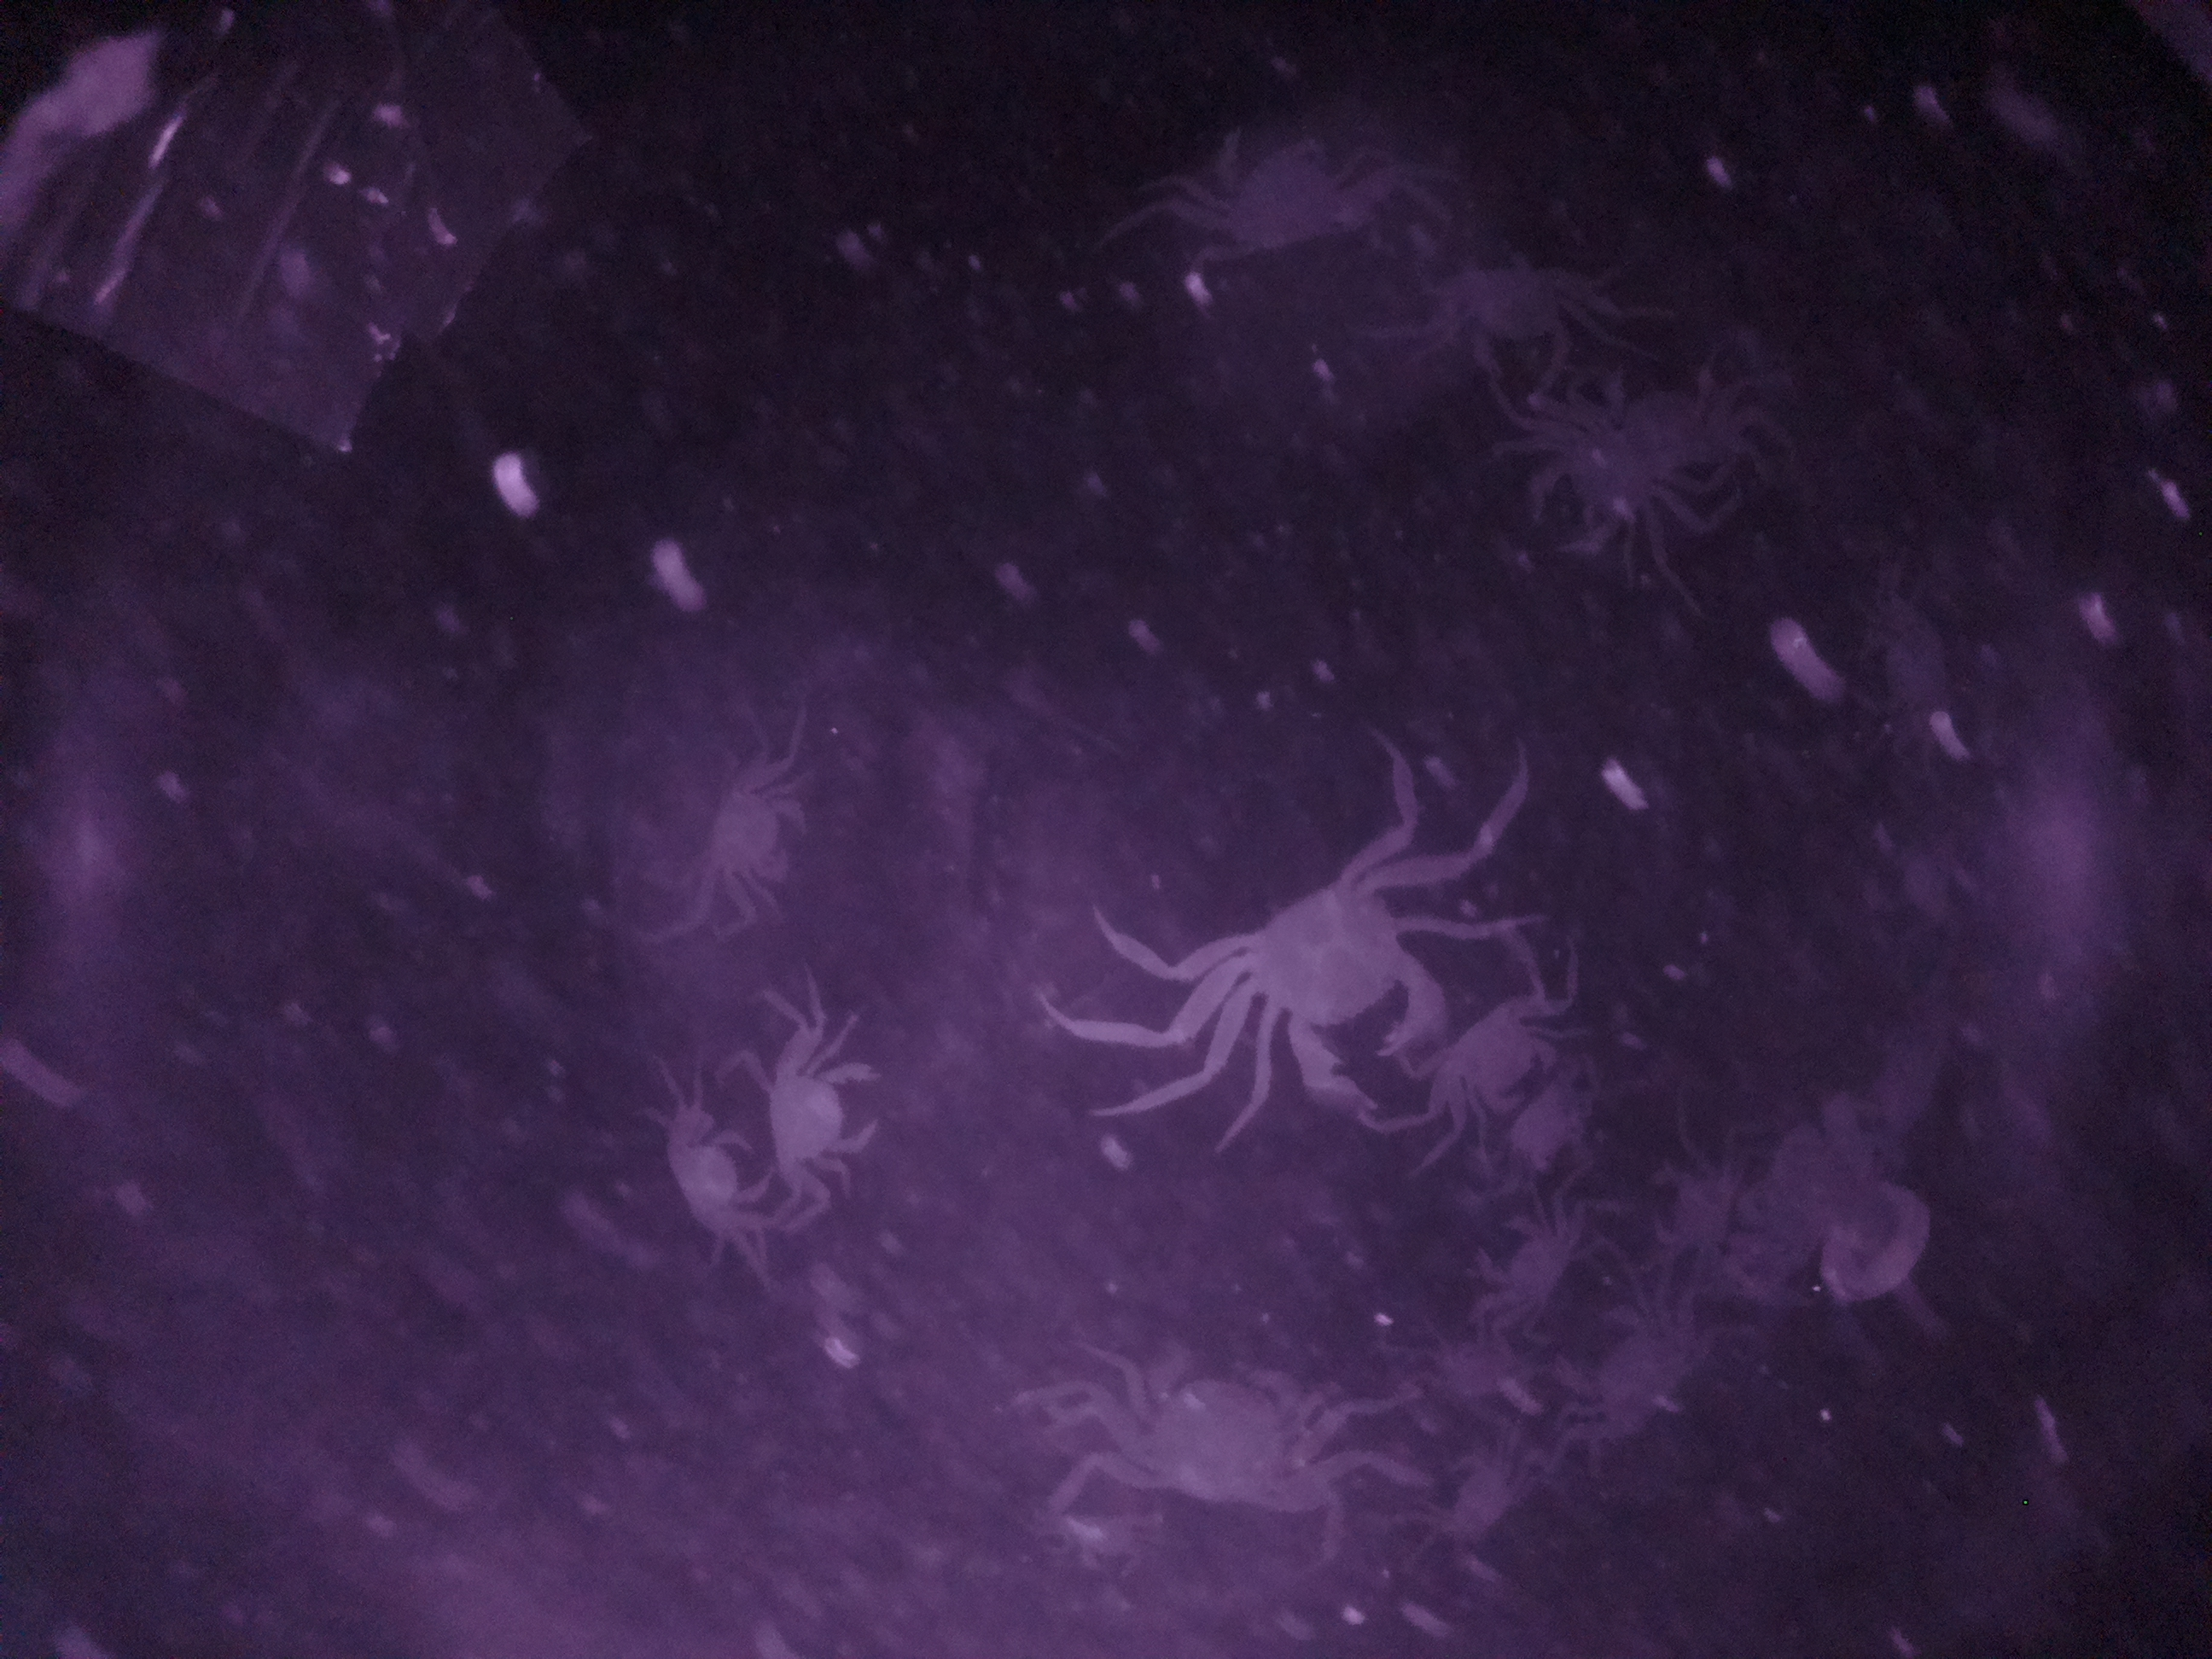Crab: (1197, 854, 1463, 1136), (1076, 1342, 1367, 1521), (1420, 974, 1576, 1157), (1456, 1171, 1609, 1349), (1432, 246, 1606, 399), (749, 1016, 890, 1202), (678, 753, 826, 920)
